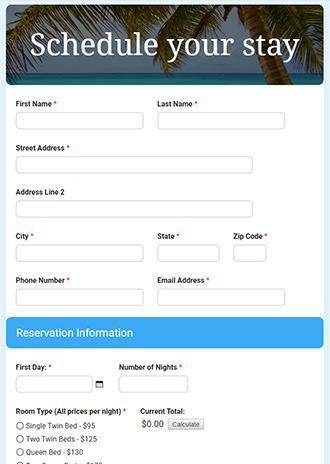button: (7, 317, 324, 349), (170, 420, 205, 431)
input: (18, 157, 254, 175), (17, 202, 253, 218), (18, 246, 145, 264), (17, 113, 144, 131), (16, 290, 145, 307), (158, 113, 287, 130), (159, 290, 285, 307), (120, 375, 189, 394), (17, 377, 93, 393), (159, 245, 221, 263), (235, 246, 268, 263)
label: (16, 406, 129, 417), (118, 361, 185, 372), (26, 434, 99, 444), (27, 446, 86, 458), (13, 275, 71, 286), (26, 423, 96, 432), (16, 187, 70, 197), (14, 143, 73, 152), (140, 406, 188, 417), (156, 98, 199, 110), (15, 99, 60, 110), (15, 362, 56, 374), (157, 277, 211, 286), (234, 231, 271, 242), (156, 231, 181, 241), (14, 231, 37, 241)
radio: (16, 436, 26, 445), (17, 447, 25, 458), (16, 422, 25, 431)
